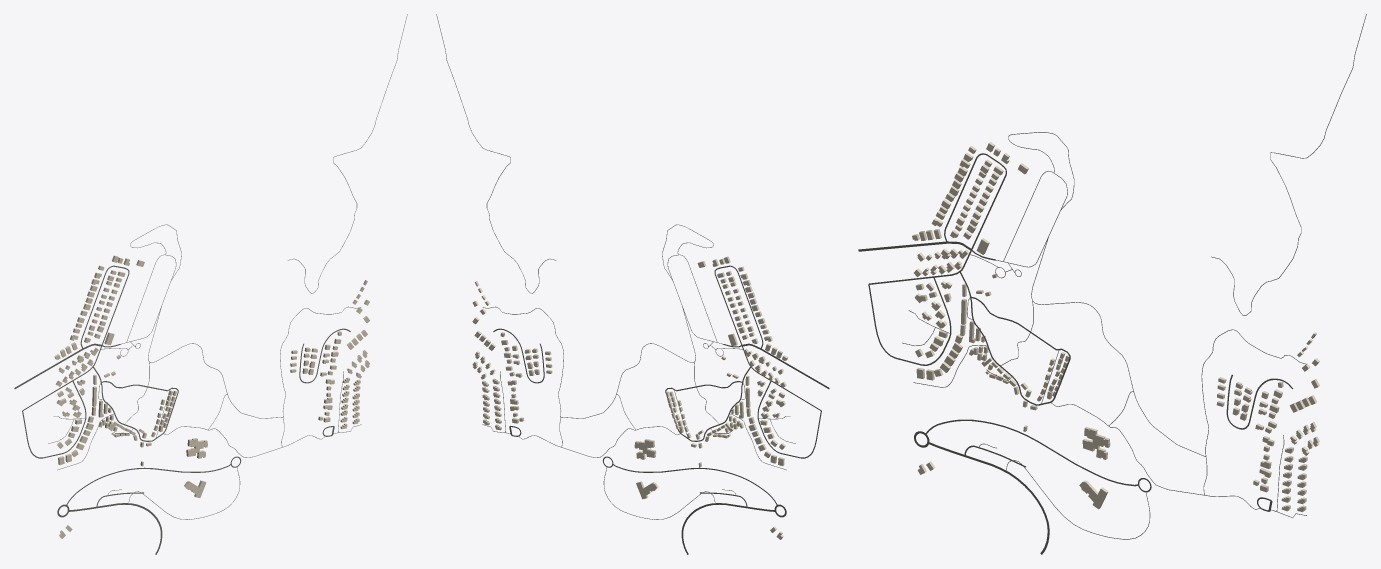
File: historic-palestine-11_26_3530_3205.glb
3 renders of one model, left to right at view 1: azimuth 30°, elevation 25°; view 2: azimuth 150°, elevation 25°; view 3: azimuth 330°, elevation 25°, orthographic. The views are drawn at different scales.
Bounding box in the file's own units: 1200 × 1398 × 8.7.
